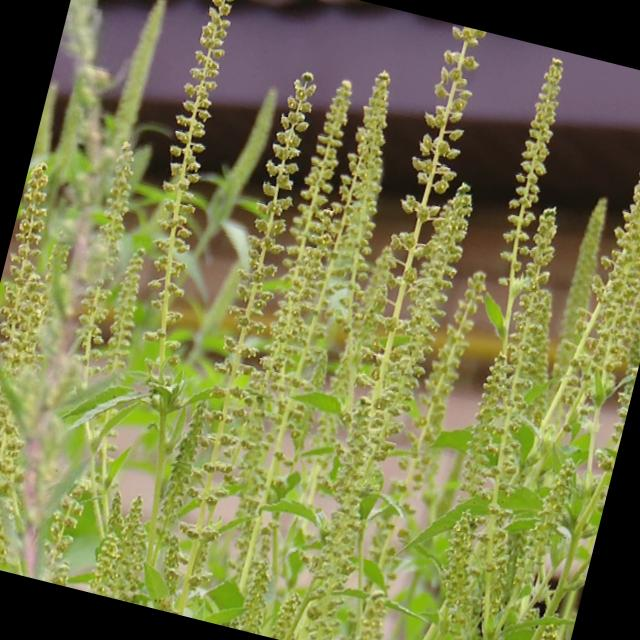ambrosia: (382, 45, 633, 640), (208, 58, 500, 384), (78, 0, 284, 434), (0, 129, 108, 553), (572, 71, 640, 372)
